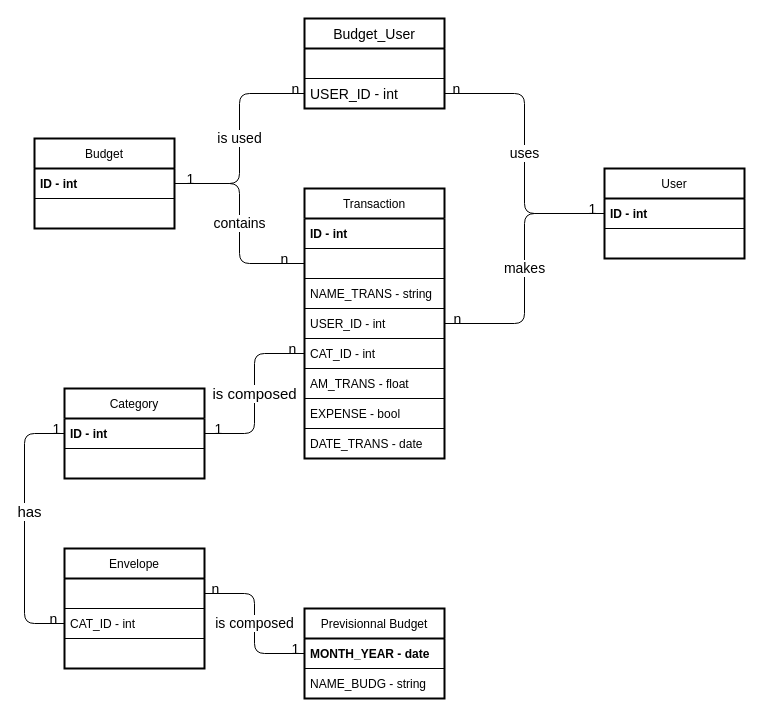
The diagram is 763 pixels wide and 716 high, and some of its shapes have lost their labels. Here are the shapes that lost their labels. From the top down, the centre of each, then its label:
At [374,63]: "BUD_ID - int".
At [104,213]: "NAME_BUD - string".
At [374,263]: "BUD_ID".
At [674,243]: "NAME_USER - string".
At [134,463]: "NAME_CAT - string".
At [134,593]: "PREV_DATE - date".
At [134,653]: "ENV_SUM - float".
